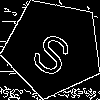S: (28, 23, 80, 79)
